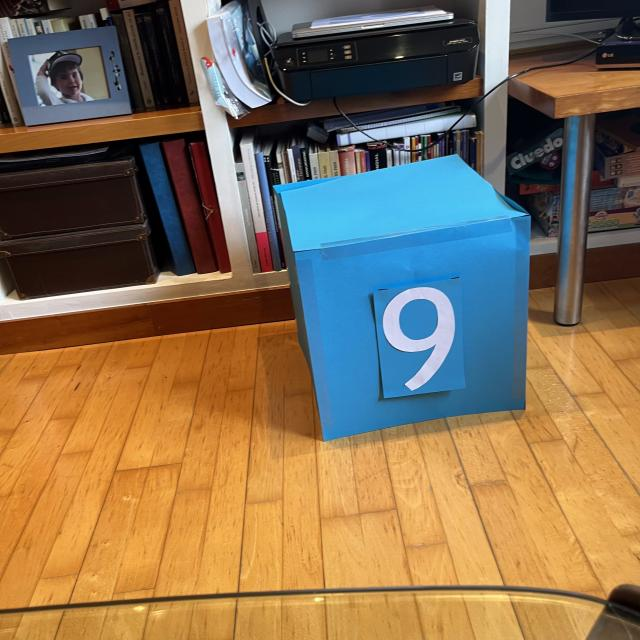box: (268, 151, 536, 443)
